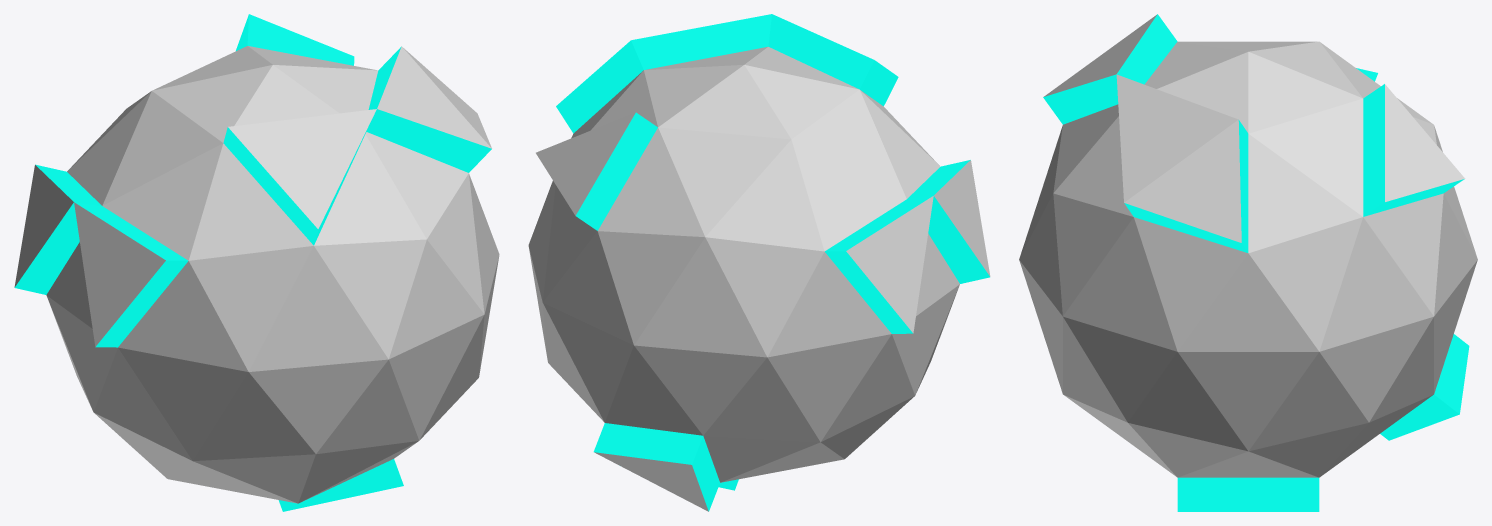
File: IcoTest.glb
3 views of the same model, side by side, from view 1: azimuth 30°, elevation 25°; view 2: azimuth 150°, elevation 25°; view 3: azimuth 270°, elevation 25° (orthographic). The views are drawn at different scales.
Parts seen in each view (by area): view 1: Icosphere; view 2: Icosphere; view 3: Icosphere.
Part boxes in pixels (x1,y1,x2,y2): Icosphere: [14, 14, 499, 511]; Icosphere: [528, 14, 990, 511]; Icosphere: [1019, 14, 1477, 511].
Bounding box in the file's own units: 2.09 × 2.14 × 2.
